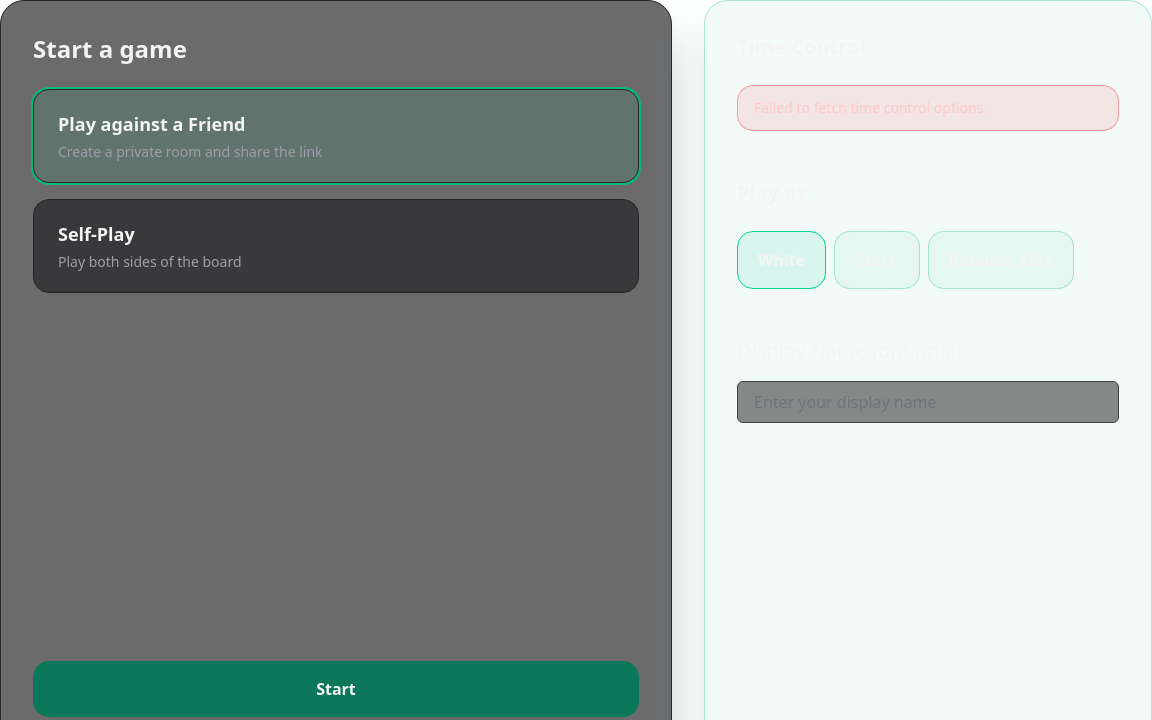
Scenario: GameRoomForm › Error Handling › displays error message when room creation fails: validation error
The width and height of the screenshot is (1152, 720).
Note: Click Start to trigger room creation
Click the button "Start". click: coordinates (336, 689)
box: [33,661,639,717]
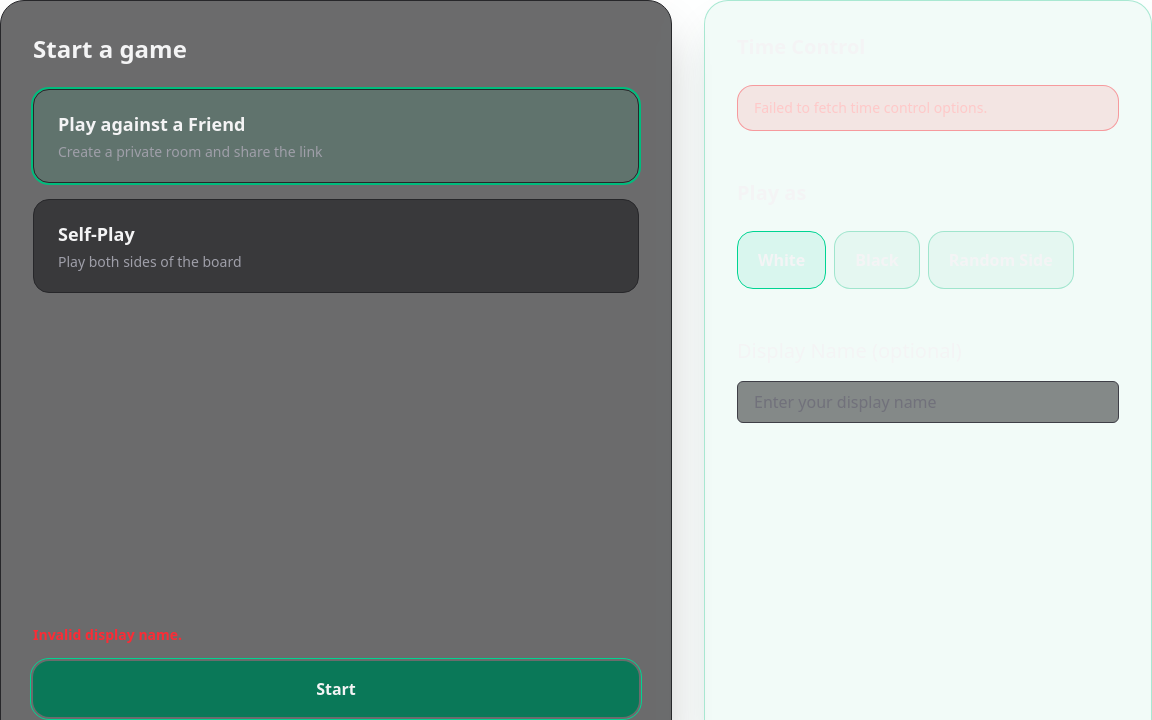
Check: the message "Invalid display name." is shown, box [33,625,182,644]
